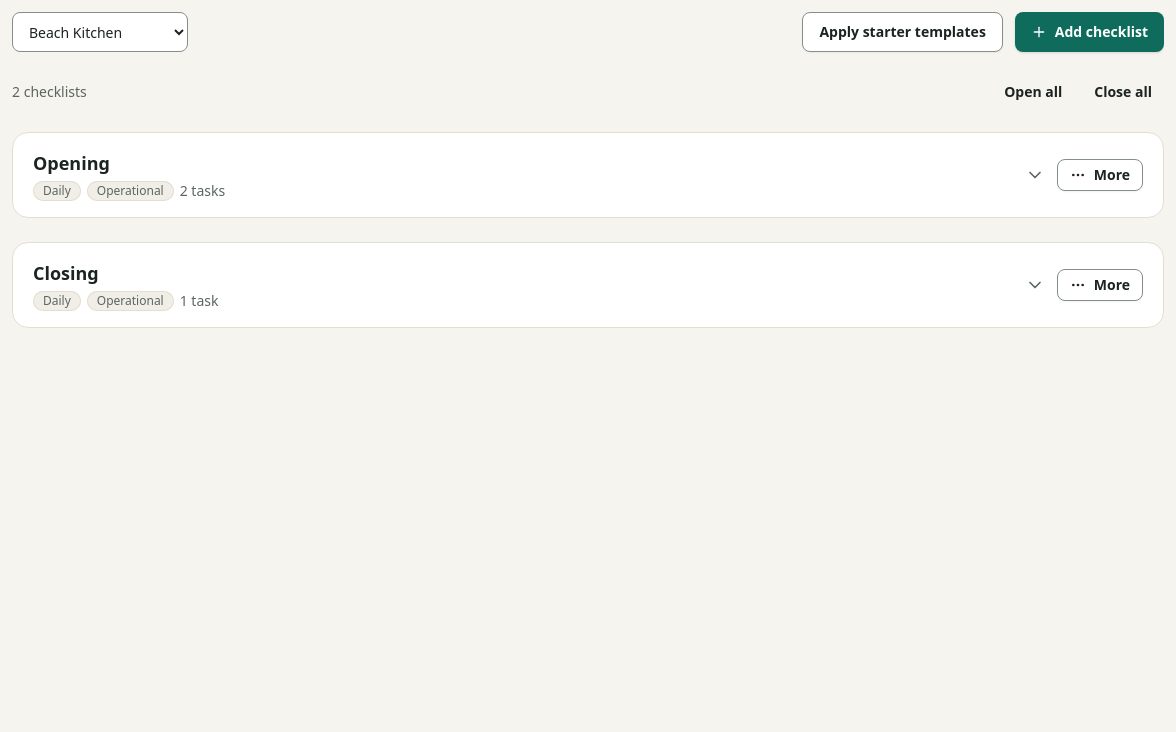
it: ChecklistConfig › starts every checklist closed, with its task count, and opens one on request
Expected: the text "2 tasks" is shown, [180, 181, 225, 201]
Click the button "Opening Daily Operational 2 tasks".
click(71, 163)  # box [33, 149, 1045, 201]
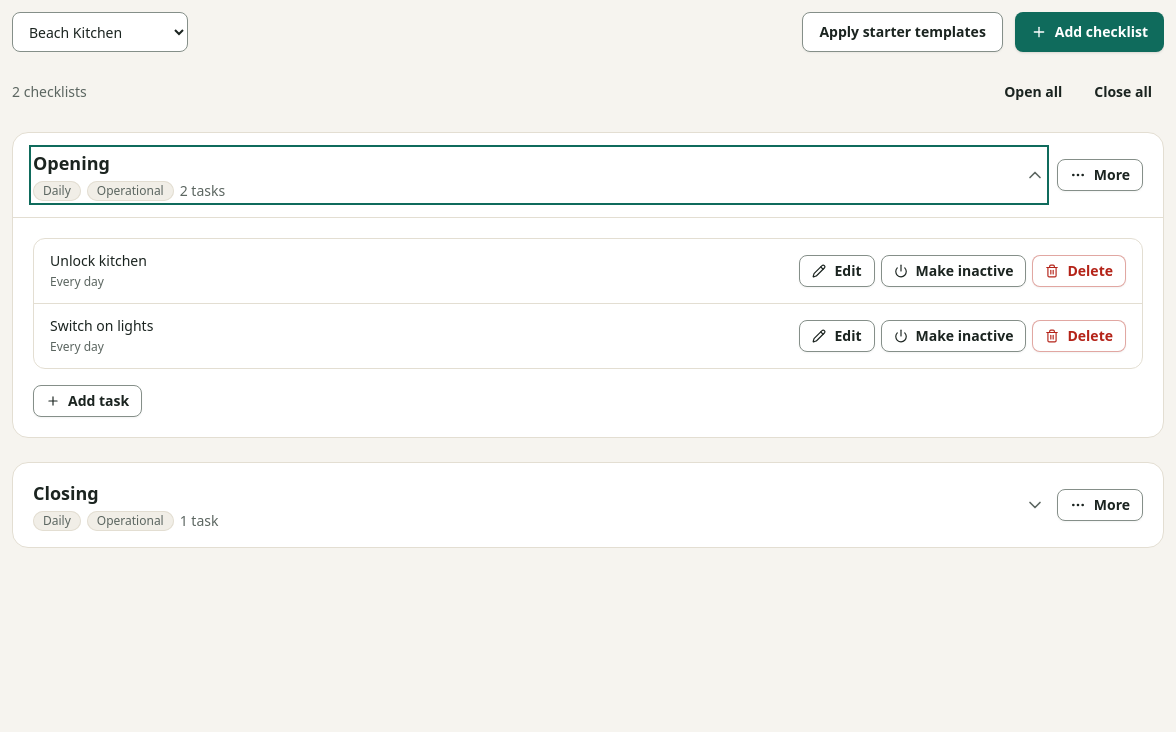
Expected: the button "Opening Daily Operational 2 tasks" is expanded, [33, 149, 1045, 201]
Click the button "Close all".
click(1123, 92)  # box [1082, 76, 1164, 108]
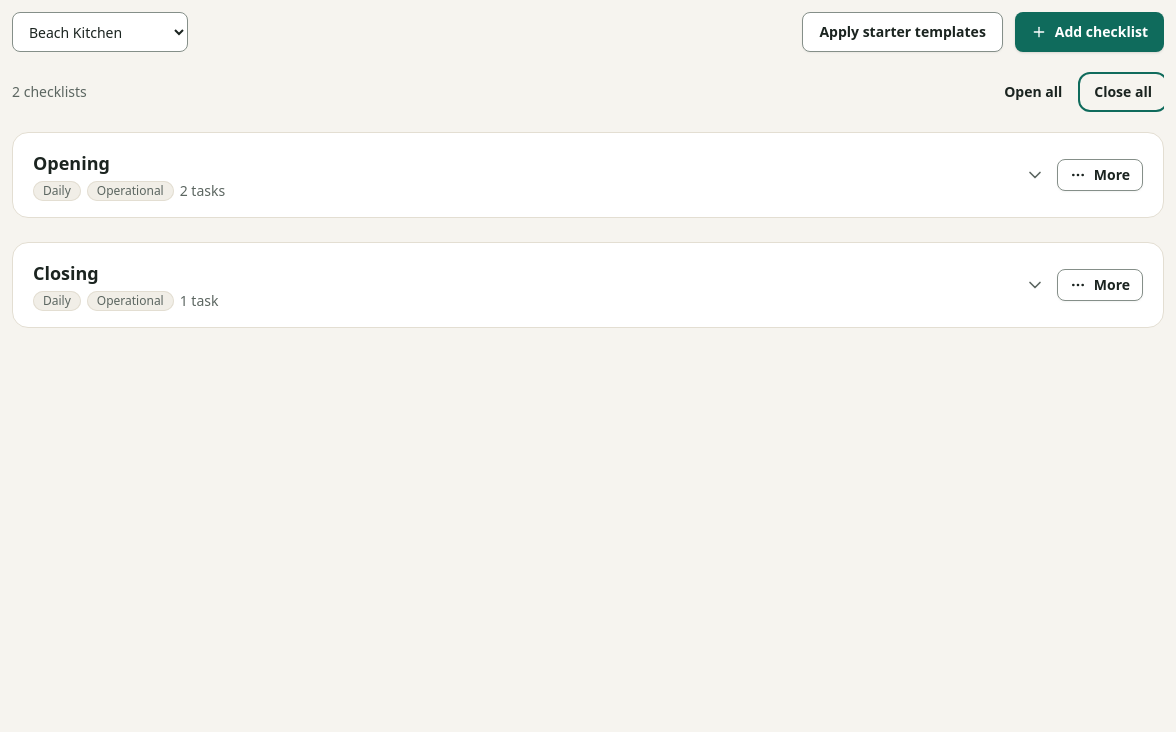
Expected: the button "Opening Daily Operational 2 tasks" is collapsed, [33, 149, 1045, 201]
Click the button "Open all".
click(1033, 92)  # box [992, 76, 1074, 108]
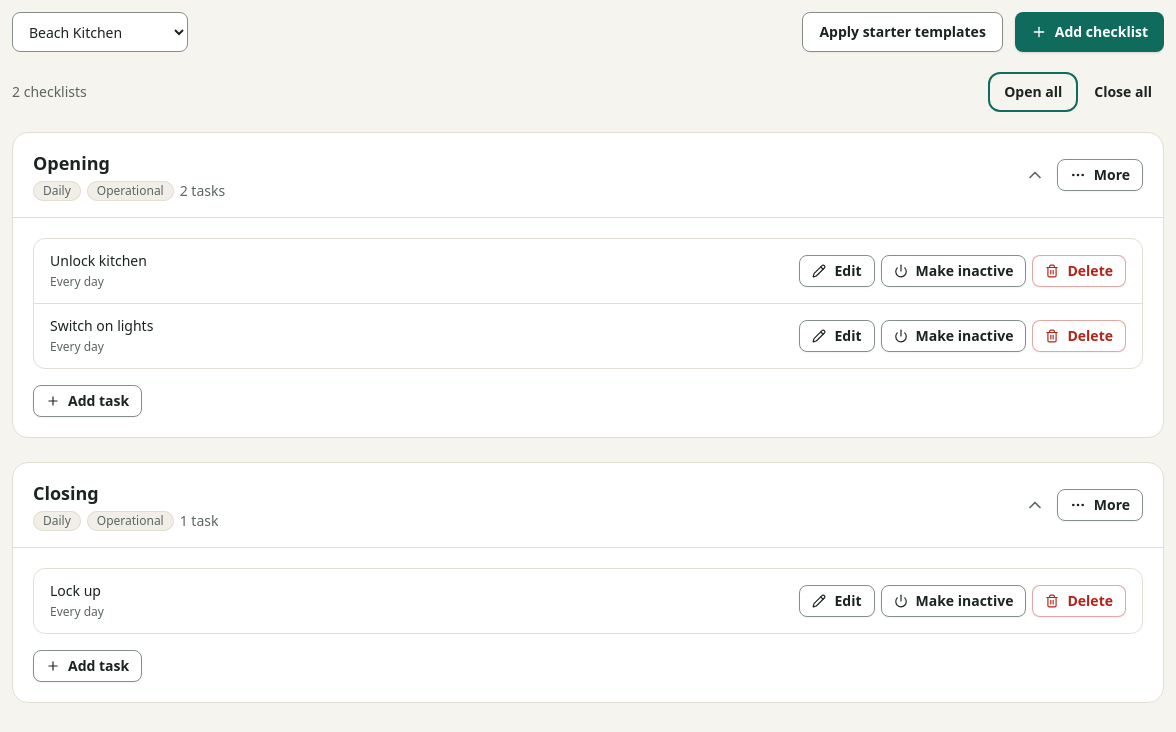
Expected: the button "Closing Daily Operational 1 task" is expanded, [33, 479, 1045, 531]
